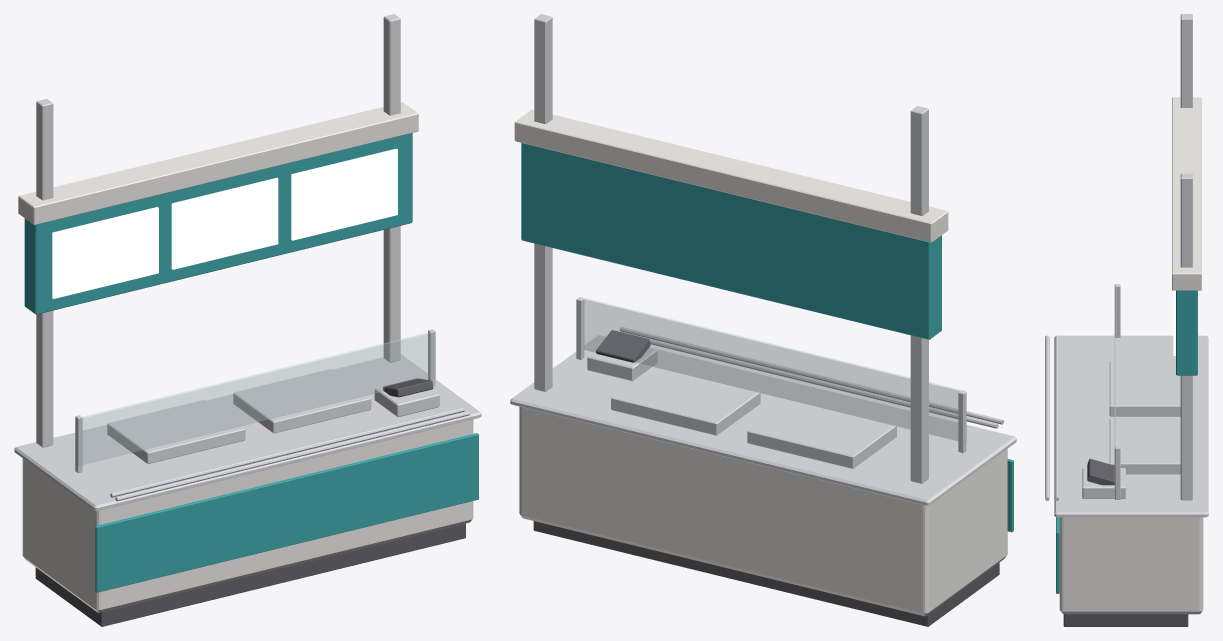
File: food_counter.glb
The picture shows the model from 3 angles, left to right: view 1: azimuth 30°, elevation 25°; view 2: azimuth 150°, elevation 25°; view 3: azimuth 270°, elevation 25°; orthographic projection. The views are drawn at different scales.
Visible parts, largest first — view 1: food-court-counter; view 2: food-court-counter; view 3: food-court-counter.
Part boxes in pixels (x1,y1,x2,y2): food-court-counter: (14,14,481,626); food-court-counter: (510,14,1016,626); food-court-counter: (1045,14,1208,626).
Size of the model in its own units: 3.08 by 3.61 by 1.2.
